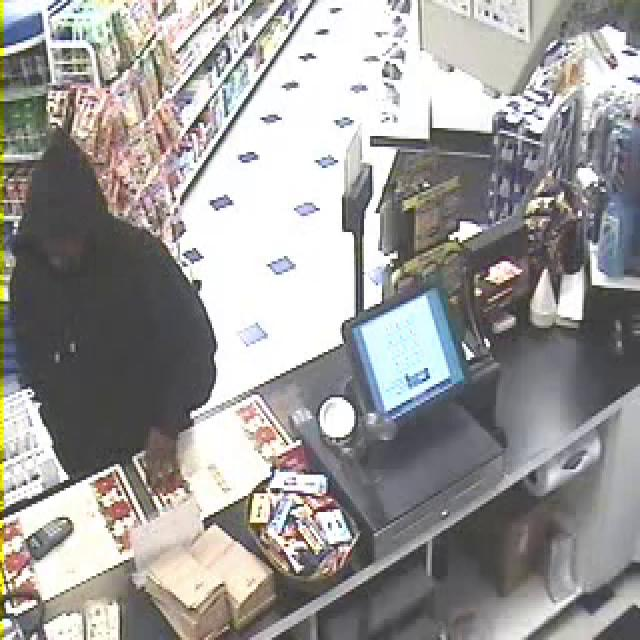robbery: (0, 70, 249, 546)
